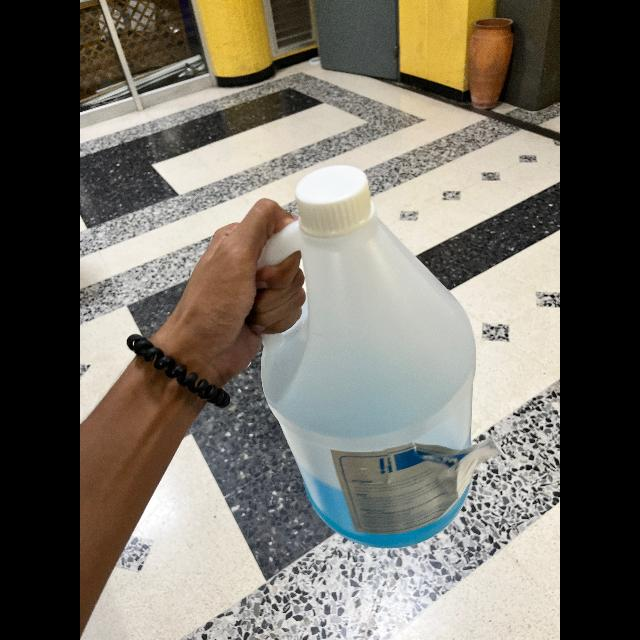chemical_plastic_gallon: (238, 168, 482, 554)
